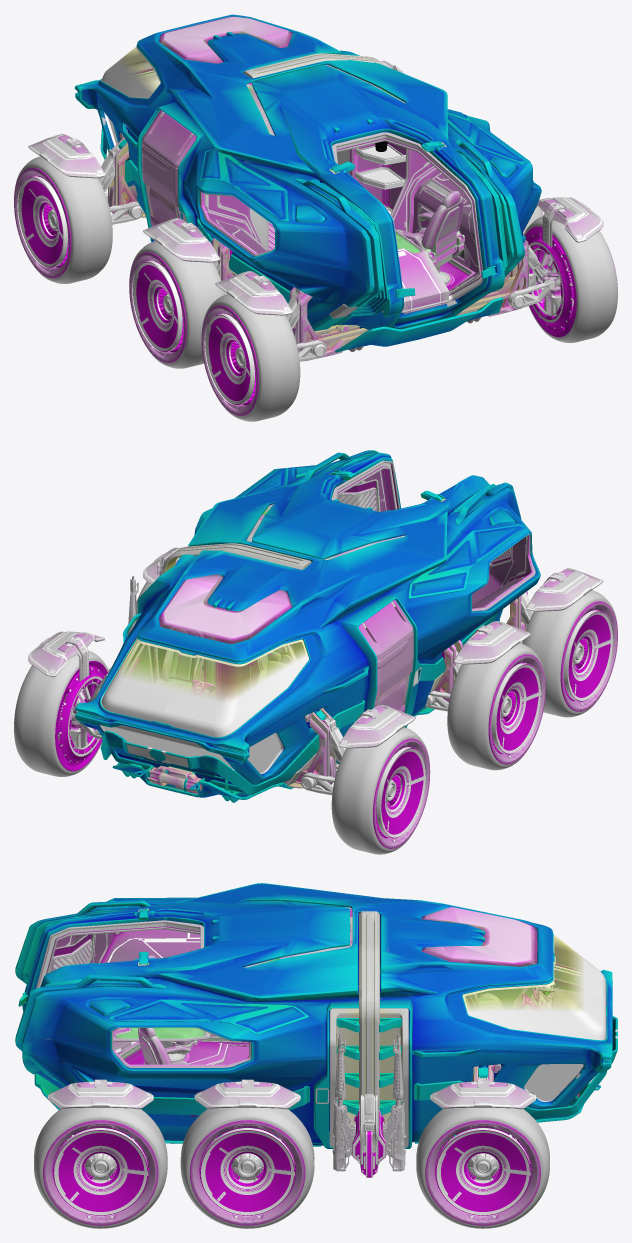
3 renders of one model, top to bottom at view 1: azimuth 30°, elevation 25°; view 2: azimuth 150°, elevation 25°; view 3: azimuth 270°, elevation 25°, orthographic. The views are drawn at different scales.
Visible parts, largest first — view 1: ed69cc_body.001, 2a43b9_tyre.001, bbb969_tyre.002, 347799_tyre.002, bbb969_tyre.001, ed69cc_body_detach.001, bbb969_center.001, bbb969_center.002, 2a43b9_center.001, ed69cc_body_Glass.001, 23fd86_merged.001, 7c3eae_cab.001 (+19 smaller); view 2: ed69cc_body.001, 13ad56_cockpit_Glass.001, bbb969_tyre.001, 2a43b9_tyre.001, 582457_tyre.001, bbb969_tyre.002, ed69cc_body_Glass.001, 2a43b9_center.001, bbb969_center.001, bbb969_center.002, 13ad56_cockpit_mainsection.001, 7c3eae_cab.001 (+16 smaller); view 3: ed69cc_body.001, 13ad56_cockpit_Glass.001, 347799_tyre.001, 347799_tyre.002, 582457_tyre.001, 347799_center.001, 347799_center.002, 582457_center.001, ed69cc_body_Glass.001, 7c3eae_cab.001, 13ad56_cockpit_mainsection.001, 582457_mudguard.001 (+16 smaller).
Boxes of the visible parts, x1,y1,x2,y2 form: ed69cc_body.001: (74, 14, 541, 352); 2a43b9_tyre.001: (14, 156, 112, 283); bbb969_tyre.002: (201, 294, 300, 421); 347799_tyre.002: (523, 216, 617, 342); bbb969_tyre.001: (129, 241, 224, 368); ed69cc_body_detach.001: (211, 238, 528, 361); bbb969_center.001: (132, 260, 183, 352); bbb969_center.002: (204, 313, 255, 405); 2a43b9_center.001: (17, 176, 68, 267); ed69cc_body_Glass.001: (159, 16, 292, 63); 23fd86_merged.001: (355, 143, 434, 231); 7c3eae_cab.001: (209, 171, 478, 292); ed69cc_body.001: (75, 450, 540, 802); 13ad56_cockpit_Glass.001: (101, 639, 308, 773); bbb969_tyre.001: (447, 643, 545, 770); 2a43b9_tyre.001: (331, 727, 430, 854); 582457_tyre.001: (14, 650, 108, 776); bbb969_tyre.002: (522, 590, 617, 717); ed69cc_body_Glass.001: (159, 574, 292, 643); 2a43b9_center.001: (376, 746, 426, 838); bbb969_center.001: (491, 662, 541, 754); bbb969_center.002: (563, 609, 613, 701); 13ad56_cockpit_mainsection.001: (100, 577, 309, 774); 7c3eae_cab.001: (344, 469, 531, 608); ed69cc_body.001: (15, 883, 617, 1149); 13ad56_cockpit_Glass.001: (463, 935, 605, 1100); 347799_tyre.001: (180, 1107, 314, 1228); 347799_tyre.002: (34, 1107, 167, 1228); 582457_tyre.001: (416, 1107, 549, 1228); 347799_center.001: (199, 1127, 295, 1216); 347799_center.002: (52, 1127, 148, 1216); 582457_center.001: (435, 1128, 531, 1216); ed69cc_body_Glass.001: (421, 907, 537, 966); 7c3eae_cab.001: (49, 929, 216, 1116); 13ad56_cockpit_mainsection.001: (422, 917, 606, 1101); 582457_mudguard.001: (430, 1079, 535, 1109).
Bounding box in the file's own units: 48.68 × 27.7 × 68.31.
